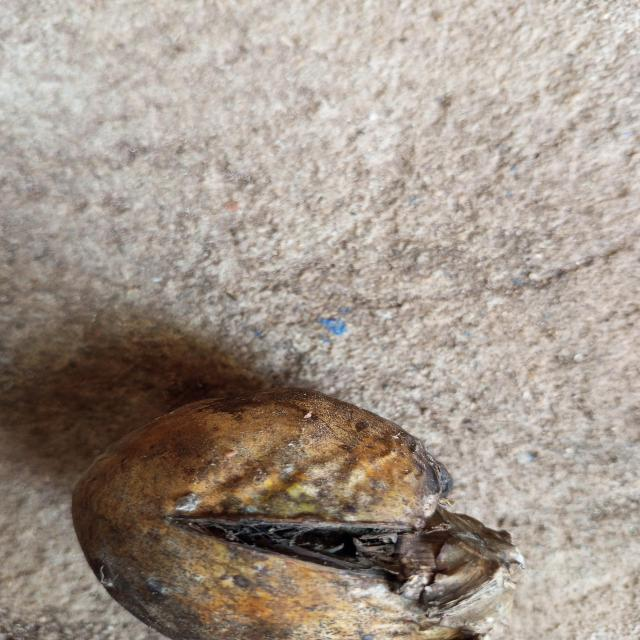damaged: (73, 388, 524, 640)
